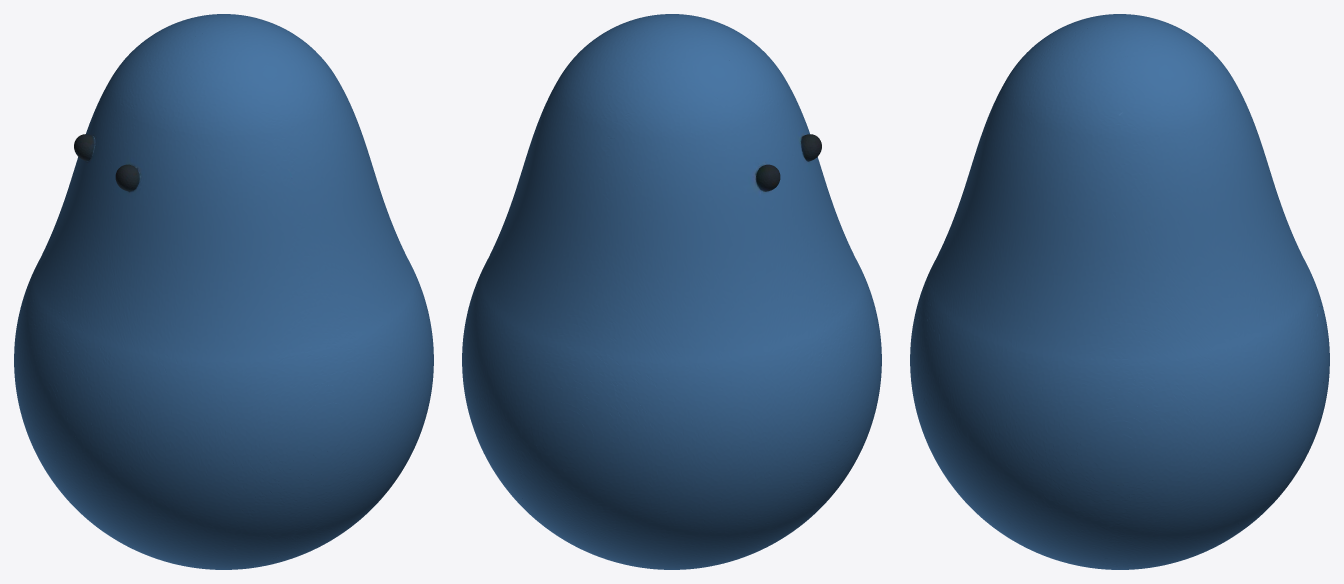
Rendered from blob-transformed.glb.
3 renders of one model, left to right at view 1: azimuth 30°, elevation 25°; view 2: azimuth 150°, elevation 25°; view 3: azimuth 270°, elevation 25°, orthographic.
Parts seen in each view (by area): view 1: 332319_23_07_18_13_30_42_0.001; view 2: 332319_23_07_18_13_30_42_0.001; view 3: 332319_23_07_18_13_30_42_0.001.
Boxes of the visible parts, x1,y1,x2,y2 form: 332319_23_07_18_13_30_42_0.001: [14, 14, 433, 569]; 332319_23_07_18_13_30_42_0.001: [462, 14, 881, 569]; 332319_23_07_18_13_30_42_0.001: [910, 14, 1329, 569].
Size of the model in its own units: 15.62 by 21.52 by 15.63.
Materials: 1 (1 with a texture image).
